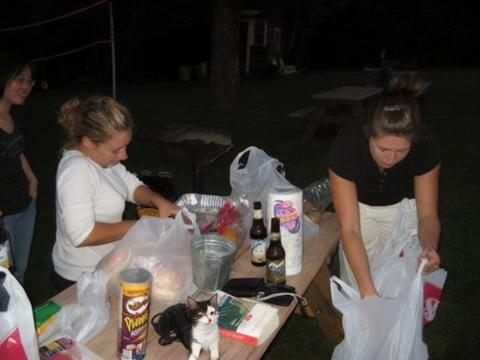bottle: (266, 218, 287, 286), (248, 200, 269, 268)
cat: (188, 294, 219, 360)
person: (52, 97, 191, 294), (330, 84, 448, 316), (1, 63, 41, 298)
